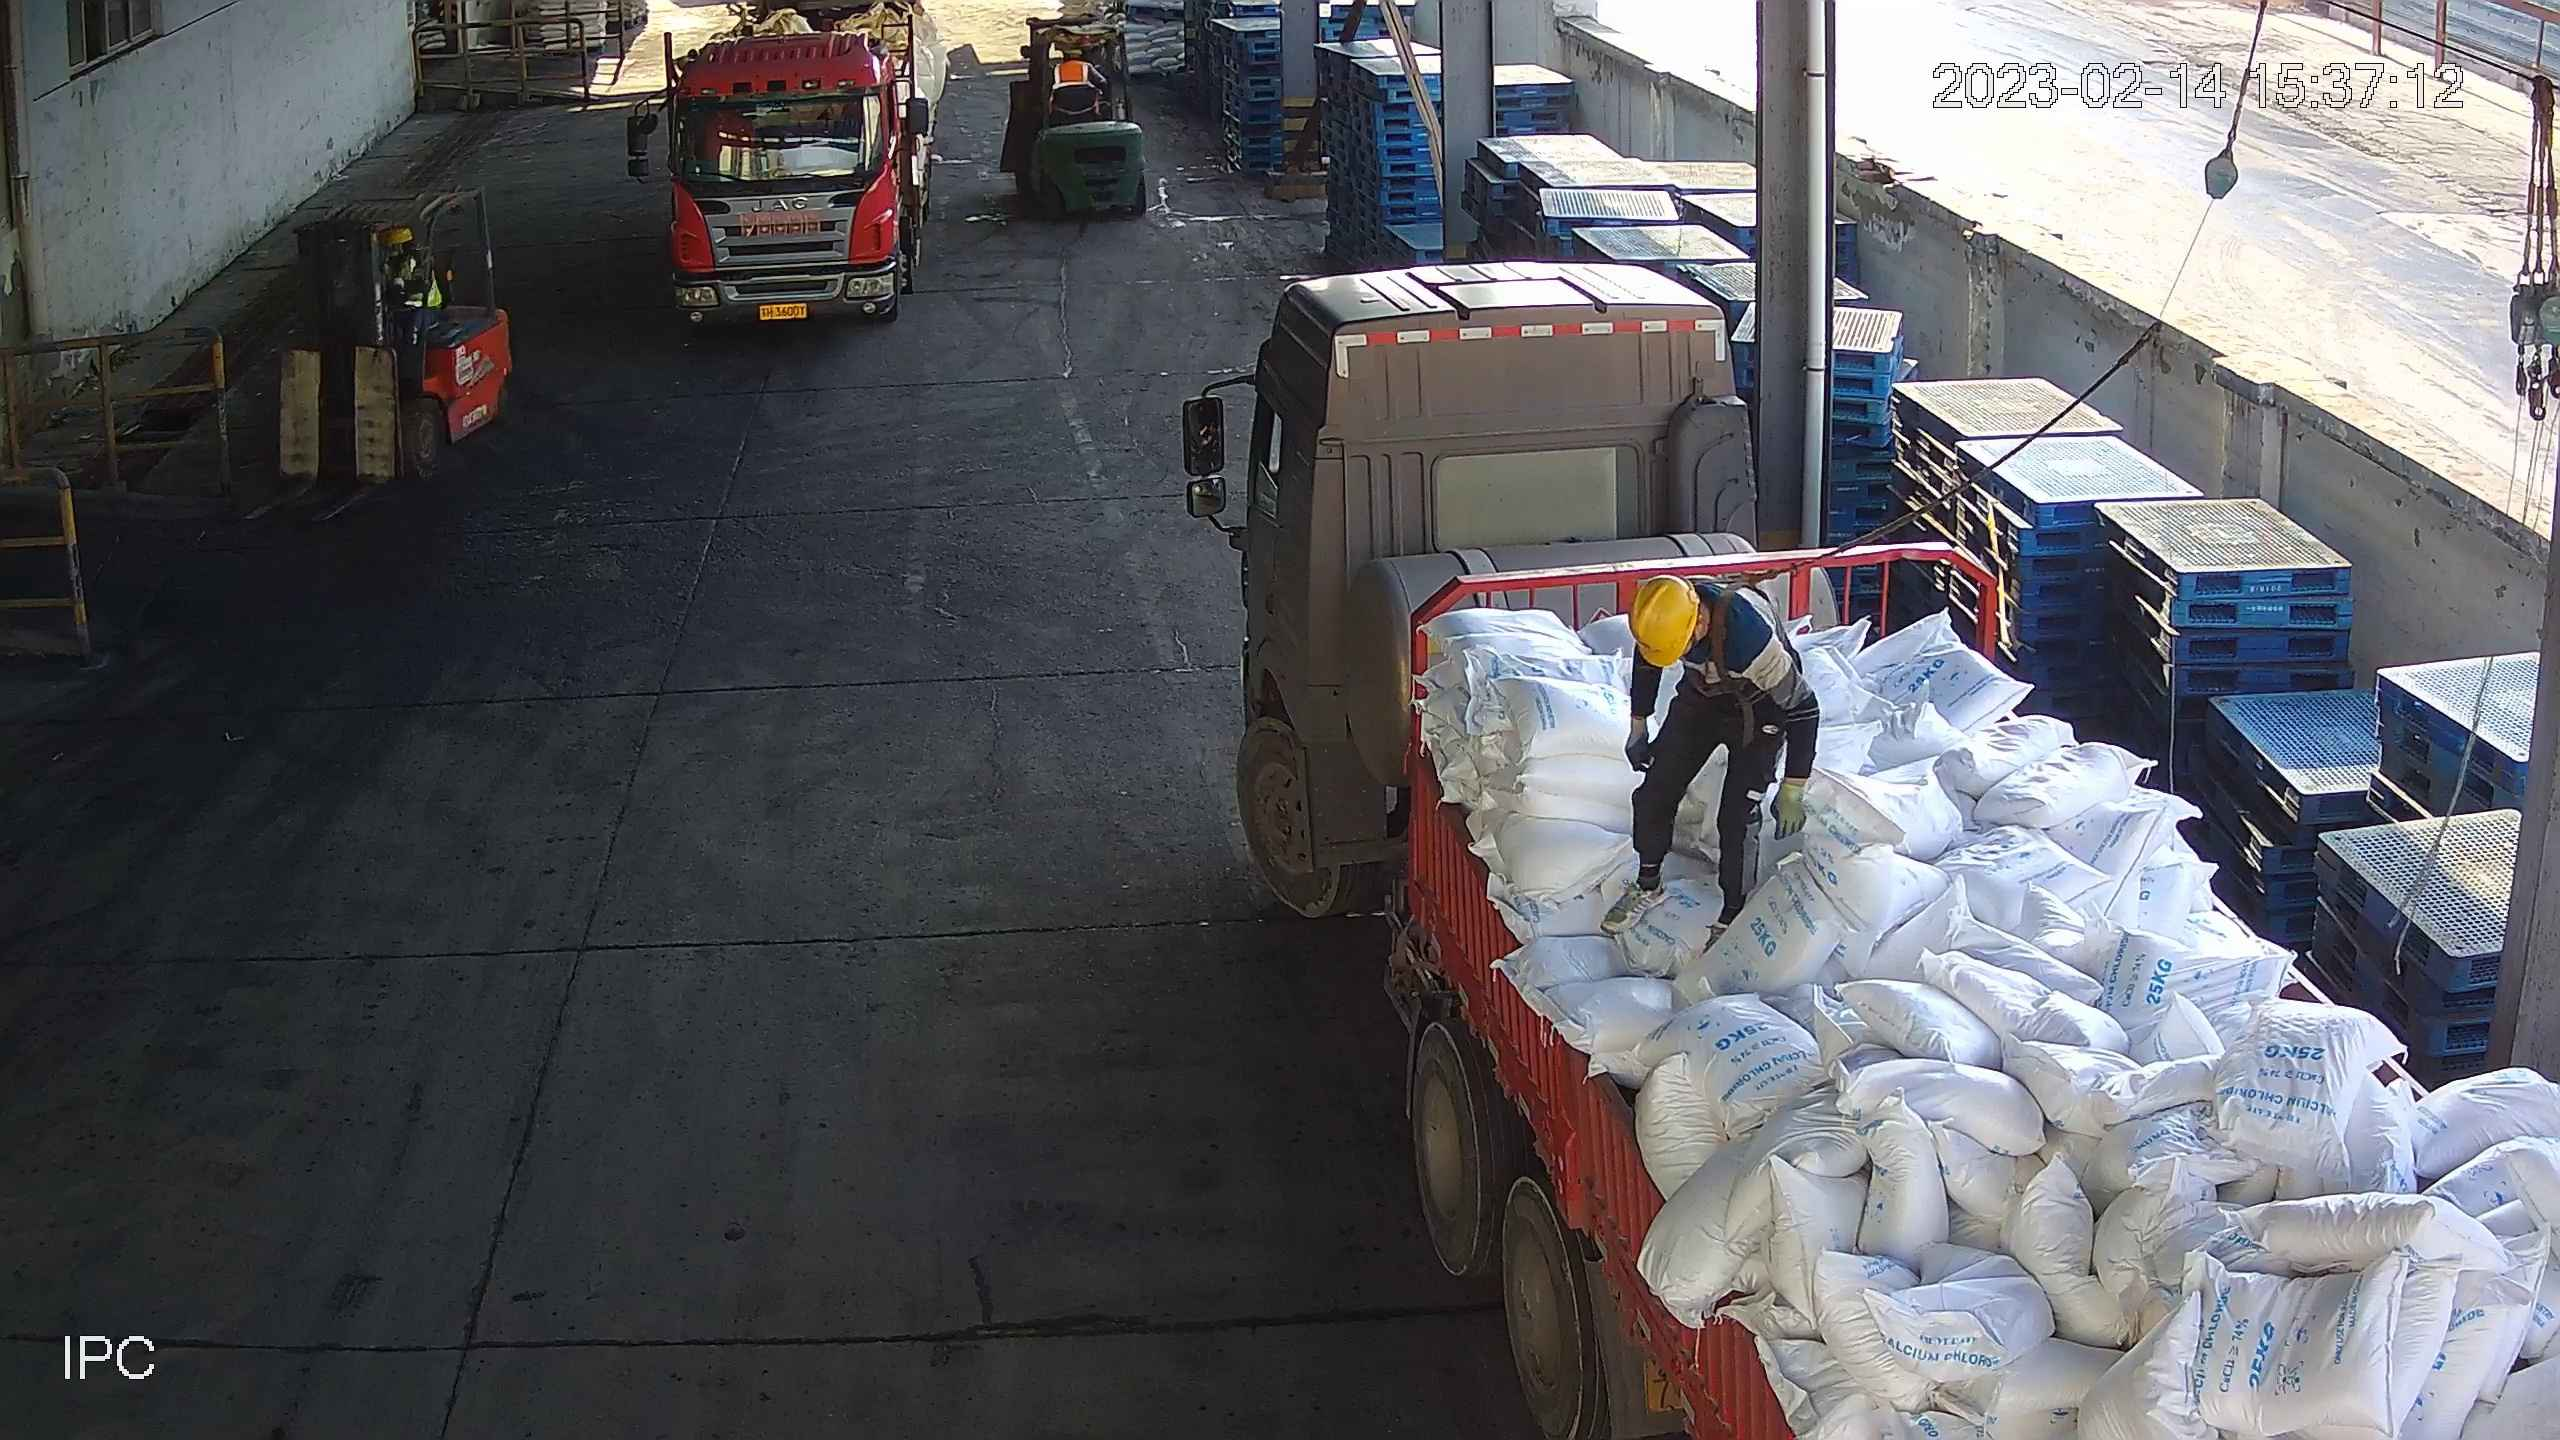belt: (1705, 565, 1768, 669)
head: (1627, 573, 1781, 693)
helmet: (1620, 582, 1705, 673)
people: (1611, 575, 1820, 945)
truck: (1196, 275, 2560, 1440), (634, 1, 943, 330)
